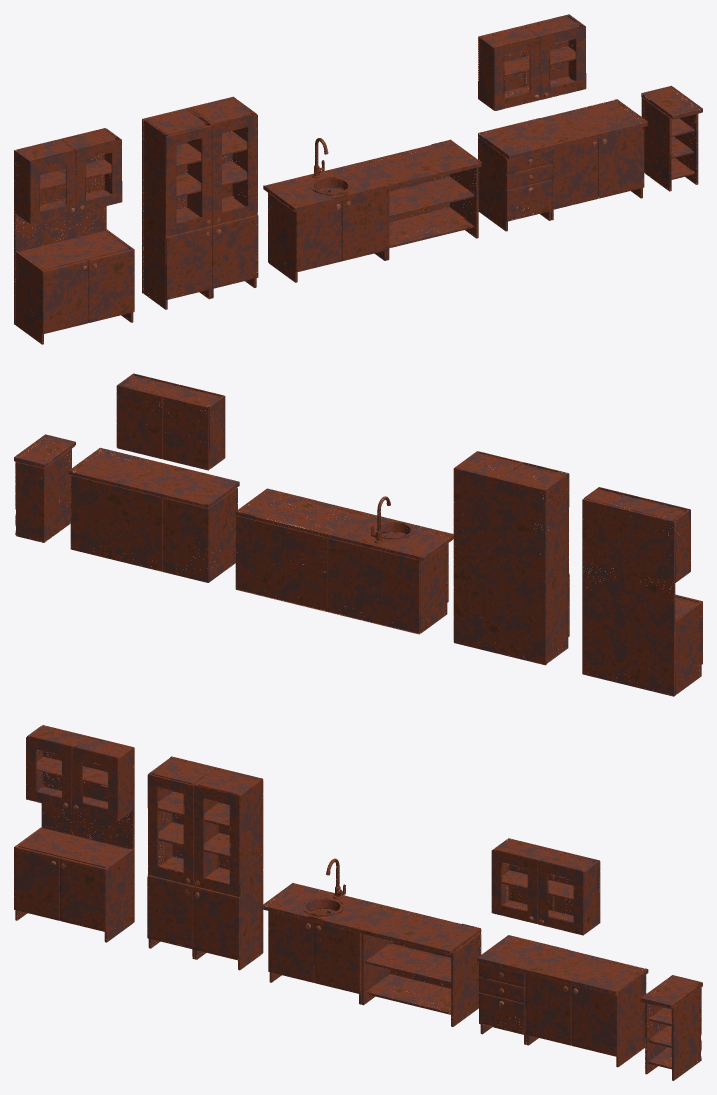
The model's file is rusted_grungy_kitchen_cabinets_modular.glb.
3 views of the same model, one above another, from view 1: azimuth 30°, elevation 25°; view 2: azimuth 150°, elevation 25°; view 3: azimuth 330°, elevation 25° (orthographic).
Parts seen in each view (by area): view 1: Rusted Cabinet_Baked.003, Rusted Cabinet_Baked.005, Rusted Cabinet_Baked.008, Rusted Cabinet_Baked.017, Rusted Cabinet_Baked.025, Rusted Cabinet_Baked.033, Rusted Cabinet_Baked.009, Rusted Cabinet_Baked.004, Rusted Cabinet_Baked.007, Rusted Cabinet_Baked.001, Rusted Cabinet_Baked.016, Rusted Cabinet_Baked.030 (+14 smaller); view 2: Rusted Cabinet_Baked.003, Rusted Cabinet_Baked.001, Rusted Cabinet_Baked.047, Rusted Cabinet_Baked.035, Rusted Cabinet_Baked.004, Rusted Cabinet_Baked.005, Rusted Cabinet_Baked.016, Rusted Cabinet_Baked.007, Rusted Cabinet_Baked.044, Rusted Cabinet_Baked.006, Rusted Cabinet_Baked.046, Rusted Cabinet_Baked.043 (+3 smaller); view 3: Rusted Cabinet_Baked.003, Rusted Cabinet_Baked.005, Rusted Cabinet_Baked.008, Rusted Cabinet_Baked.017, Rusted Cabinet_Baked.033, Rusted Cabinet_Baked.025, Rusted Cabinet_Baked.009, Rusted Cabinet_Baked.047, Rusted Cabinet_Baked.004, Rusted Cabinet_Baked.007, Rusted Cabinet_Baked.001, Rusted Cabinet_Baked.030 (+13 smaller).
Boxes of the visible parts, x1,y1,x2,y2 form: Rusted Cabinet_Baked.003: [263, 139, 481, 282]; Rusted Cabinet_Baked.005: [478, 99, 648, 231]; Rusted Cabinet_Baked.008: [165, 214, 258, 299]; Rusted Cabinet_Baked.017: [42, 248, 134, 333]; Rusted Cabinet_Baked.025: [295, 187, 387, 272]; Rusted Cabinet_Baked.033: [552, 126, 644, 209]; Rusted Cabinet_Baked.009: [165, 114, 257, 236]; Rusted Cabinet_Baked.004: [478, 14, 584, 110]; Rusted Cabinet_Baked.007: [15, 229, 133, 344]; Rusted Cabinet_Baked.001: [14, 128, 106, 324]; Rusted Cabinet_Baked.016: [144, 119, 167, 309]; Rusted Cabinet_Baked.030: [494, 26, 586, 110]; Rusted Cabinet_Baked.003: [235, 488, 453, 634]; Rusted Cabinet_Baked.001: [582, 498, 675, 696]; Rusted Cabinet_Baked.047: [453, 451, 546, 665]; Rusted Cabinet_Baked.035: [70, 475, 209, 582]; Rusted Cabinet_Baked.004: [116, 374, 224, 470]; Rusted Cabinet_Baked.005: [68, 447, 239, 581]; Rusted Cabinet_Baked.016: [544, 473, 568, 663]; Rusted Cabinet_Baked.007: [675, 597, 701, 694]; Rusted Cabinet_Baked.044: [15, 461, 45, 542]; Rusted Cabinet_Baked.006: [584, 487, 689, 582]; Rusted Cabinet_Baked.046: [45, 448, 71, 541]; Rusted Cabinet_Baked.043: [14, 434, 75, 468]; Rusted Cabinet_Baked.003: [262, 883, 481, 1026]; Rusted Cabinet_Baked.005: [477, 935, 648, 1067]; Rusted Cabinet_Baked.008: [147, 875, 240, 960]; Rusted Cabinet_Baked.017: [14, 846, 106, 931]; Rusted Cabinet_Baked.033: [525, 973, 618, 1056]; Rusted Cabinet_Baked.025: [268, 911, 361, 993]; Rusted Cabinet_Baked.009: [147, 774, 240, 897]; Rusted Cabinet_Baked.047: [170, 756, 263, 970]; Rusted Cabinet_Baked.004: [493, 838, 600, 934]; Rusted Cabinet_Baked.007: [15, 827, 133, 942]; Rusted Cabinet_Baked.001: [41, 725, 134, 922]; Rusted Cabinet_Baked.030: [491, 850, 584, 935].
Size of the model in its own units: 7.89 by 2.01 by 0.65.
1 material, 1 textured.
